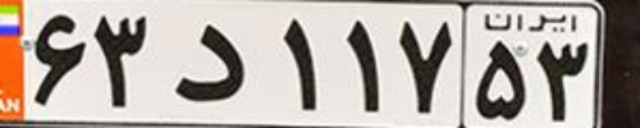1: (342, 20, 382, 112), (282, 18, 317, 111)
3: (91, 14, 152, 108), (535, 39, 589, 122)
5: (475, 39, 525, 120)
6: (32, 14, 82, 107)
7: (397, 20, 454, 113)
dal: (171, 21, 247, 102)
